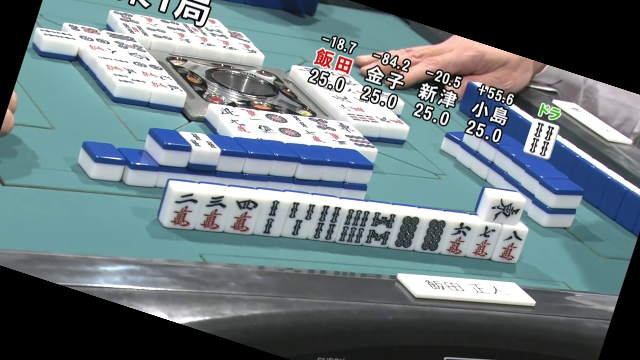Tehai: (161, 176, 522, 267)
